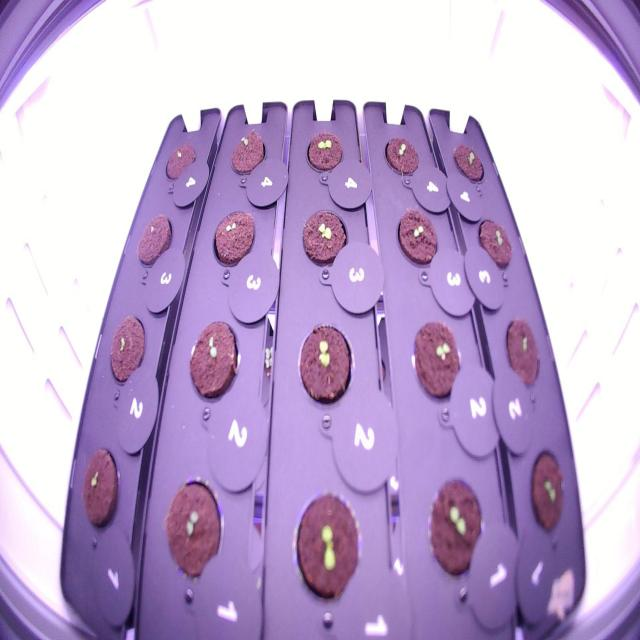germination: (289, 477, 368, 611), (160, 464, 230, 590), (423, 467, 489, 588), (291, 316, 358, 416), (183, 310, 243, 409), (407, 311, 467, 409), (525, 441, 571, 545), (75, 442, 125, 537), (102, 303, 149, 395), (296, 203, 350, 276), (390, 201, 443, 274), (502, 309, 545, 396), (206, 205, 260, 270), (473, 212, 515, 280), (302, 123, 346, 182), (226, 124, 270, 180), (379, 128, 422, 184), (162, 134, 202, 192), (449, 137, 488, 192)
pod: (132, 205, 176, 278)
